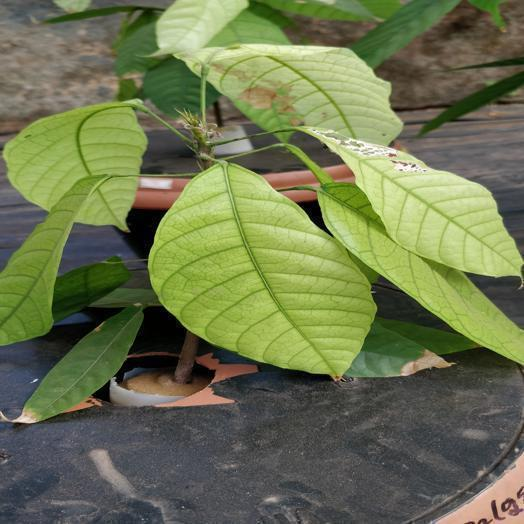Healthy Leaf: (0, 306, 143, 422), (345, 322, 450, 377), (53, 257, 130, 322), (377, 317, 480, 354), (143, 58, 199, 116)
Iron: (150, 164, 375, 375), (318, 184, 523, 363), (306, 128, 519, 276), (179, 44, 401, 144), (0, 176, 108, 344), (4, 100, 146, 226), (153, 0, 247, 55)
